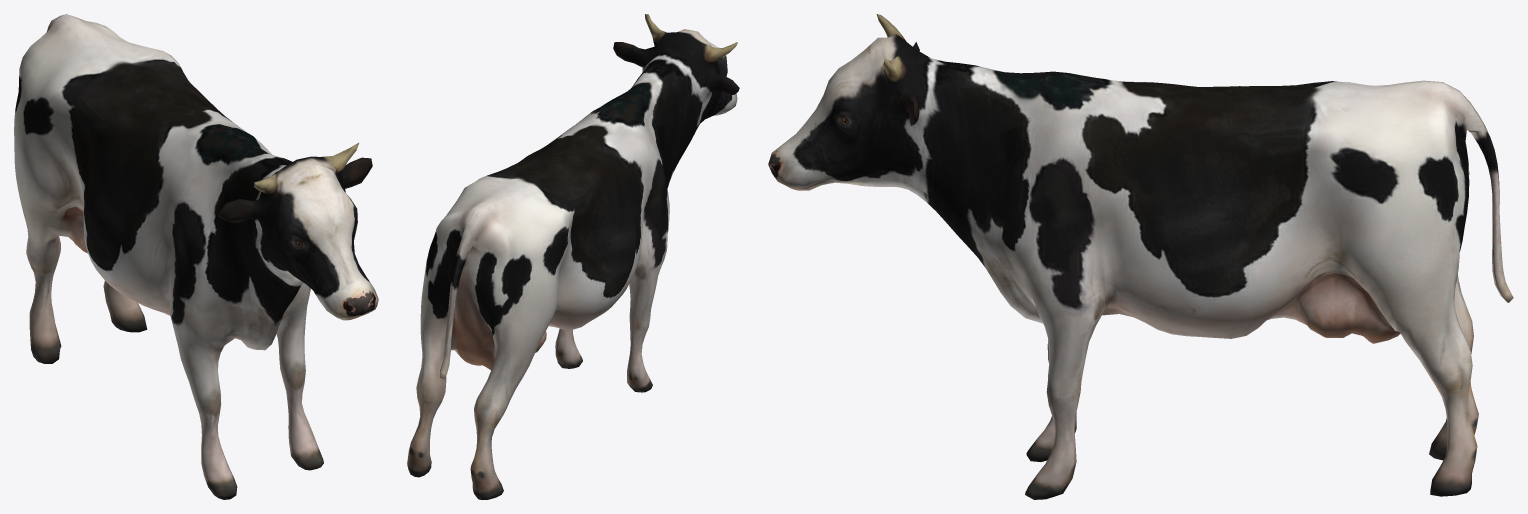
File: cow.glb
3 renders of one model, left to right at view 1: azimuth 30°, elevation 25°; view 2: azimuth 150°, elevation 25°; view 3: azimuth 270°, elevation 25°, orthographic. The views are drawn at different scales.
Parts seen in each view (by area): view 1: Dairy_cow; view 2: Dairy_cow; view 3: Dairy_cow.
Part boxes in pixels (bbox=[...]): Dairy_cow: bbox=[14, 14, 378, 499]; Dairy_cow: bbox=[407, 14, 739, 499]; Dairy_cow: bbox=[768, 14, 1513, 499].
Bounding box in the file's own units: 0.641 × 1.42 × 2.2.
1 material, 1 textured.
